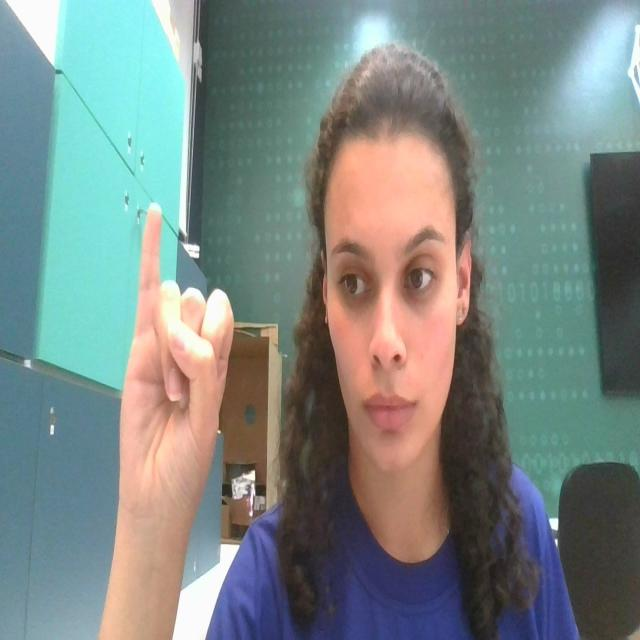I: (101, 193, 244, 551)
